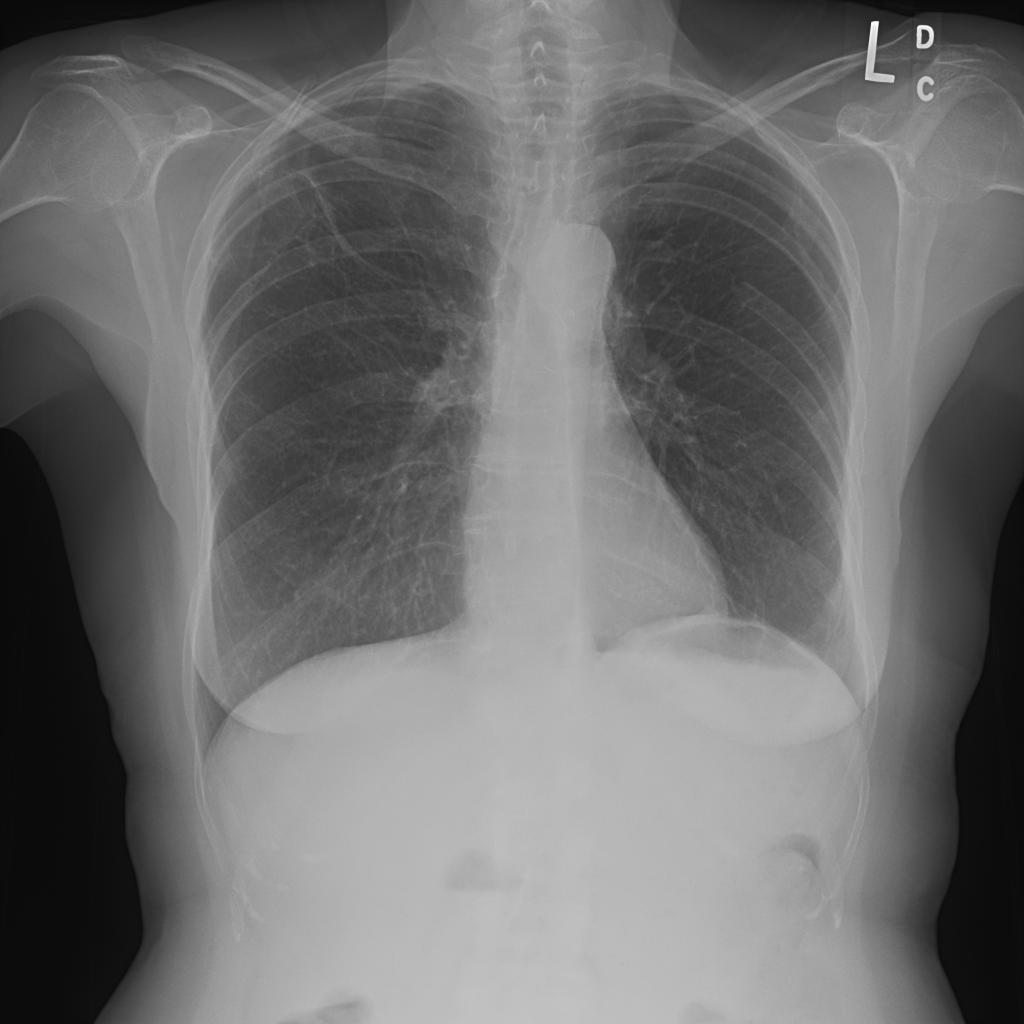Nodule: (165, 198, 215, 255)
